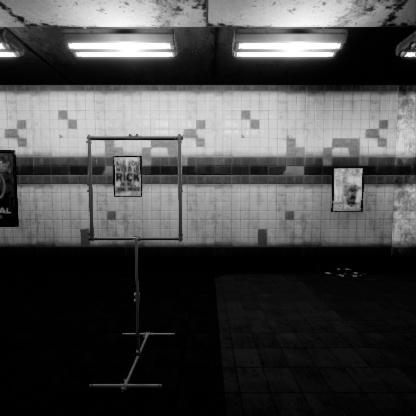gate: (87, 174, 191, 280)
